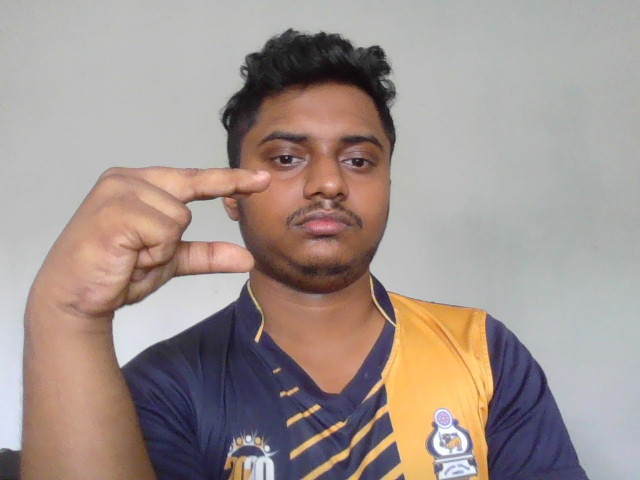No: (51, 152, 272, 304)
